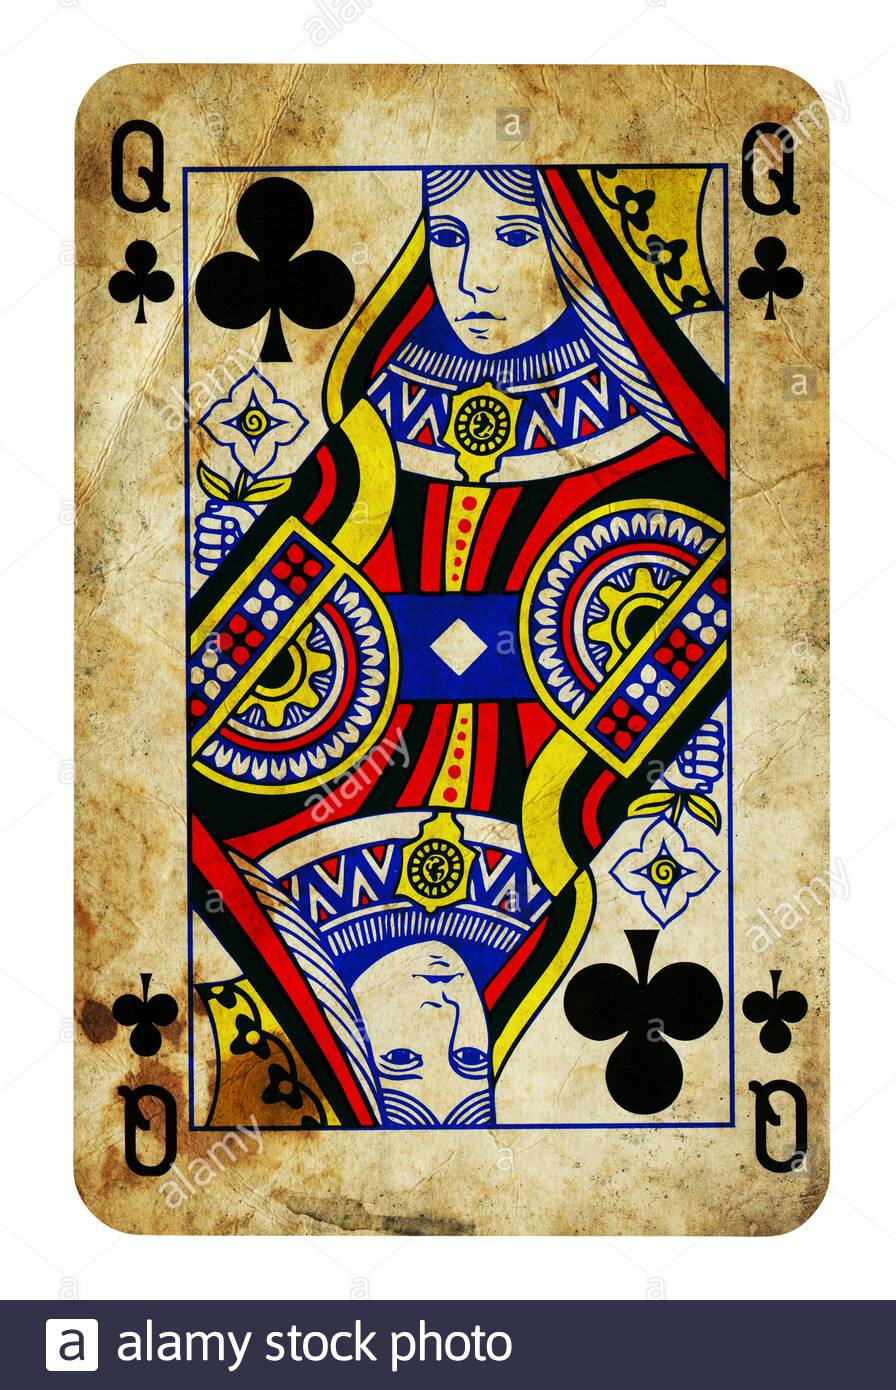queen of clubs: (75, 60, 829, 1237)
